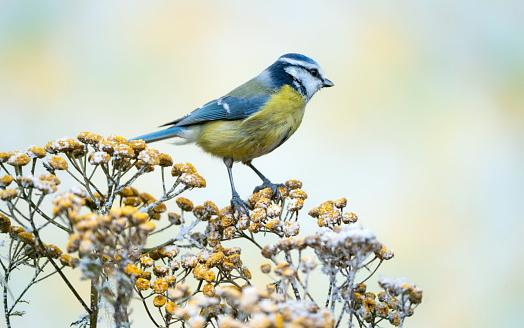bird: (137, 53, 333, 210)
